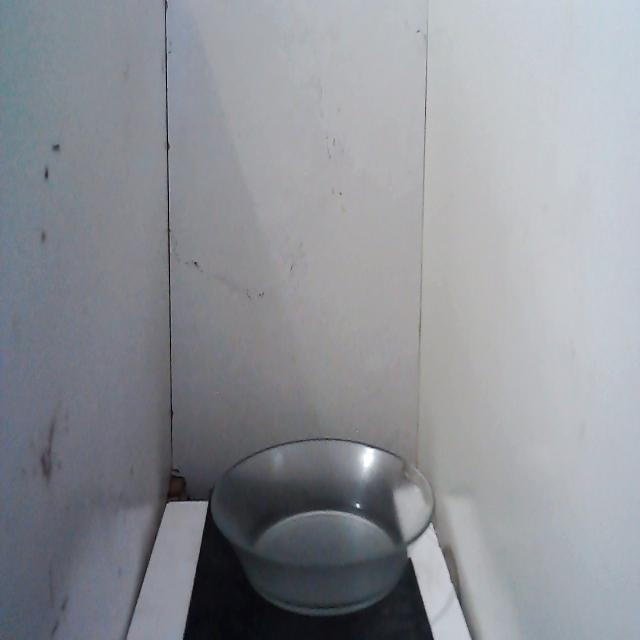vidro: (206, 423, 441, 628)
